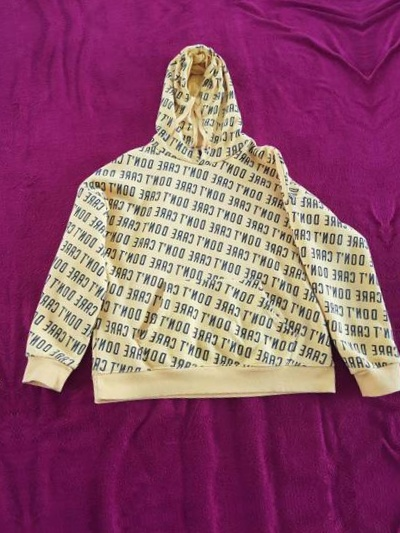Hoodie: (0, 15, 399, 452), (370, 0, 400, 405), (0, 61, 12, 498), (0, 0, 346, 6)
